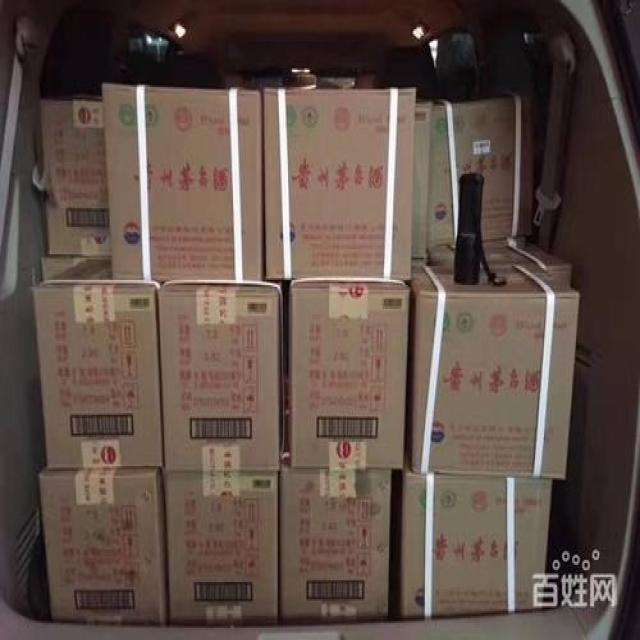box: (409, 261, 578, 481), (102, 84, 263, 281), (264, 89, 417, 281), (36, 255, 165, 468), (157, 278, 288, 470), (289, 282, 410, 468), (402, 473, 551, 617), (39, 464, 169, 624), (278, 454, 392, 621), (163, 470, 278, 624), (429, 94, 533, 249), (42, 99, 111, 257), (486, 241, 570, 290), (411, 105, 430, 262), (41, 257, 86, 284)
